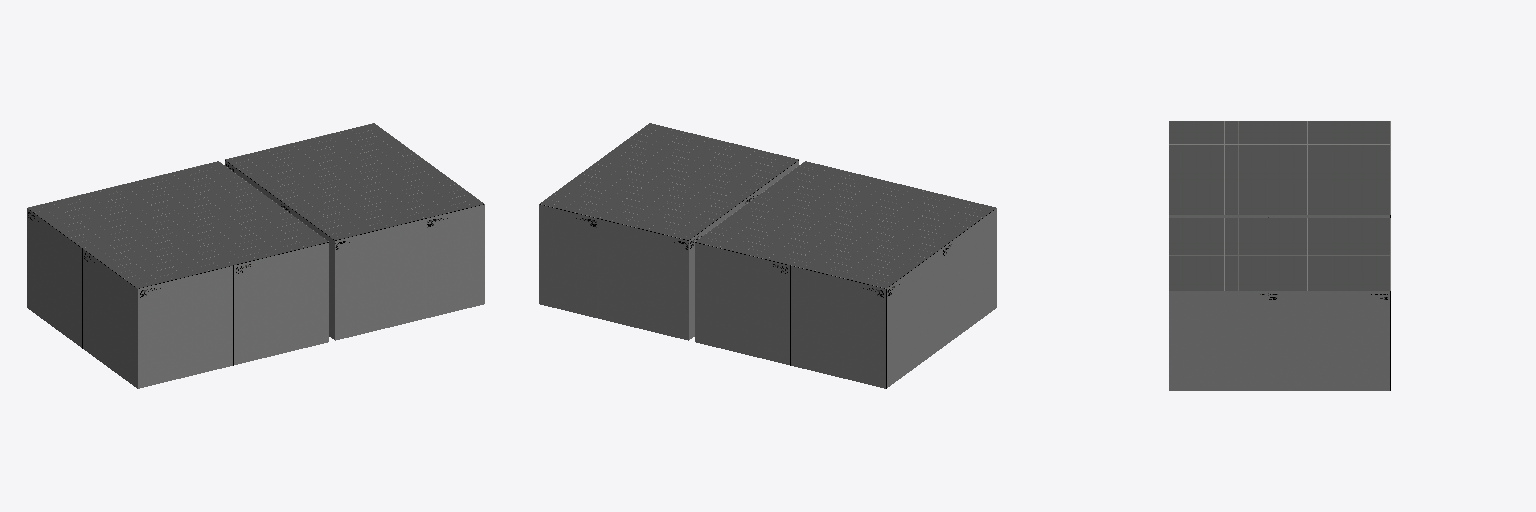
3 views of the same model, side by side, from view 1: azimuth 30°, elevation 25°; view 2: azimuth 150°, elevation 25°; view 3: azimuth 270°, elevation 25° (orthographic).
Parts seen in each view (by area): view 1: renderMesh0; view 2: renderMesh0; view 3: renderMesh0.
Part boxes in pixels (x1,y1,x2,y2): renderMesh0: (27, 123, 484, 388); renderMesh0: (539, 123, 996, 388); renderMesh0: (1169, 121, 1390, 390).
Bounding box in the file's own units: 464 × 128 × 256.
Materials: 2 (2 with a texture image).